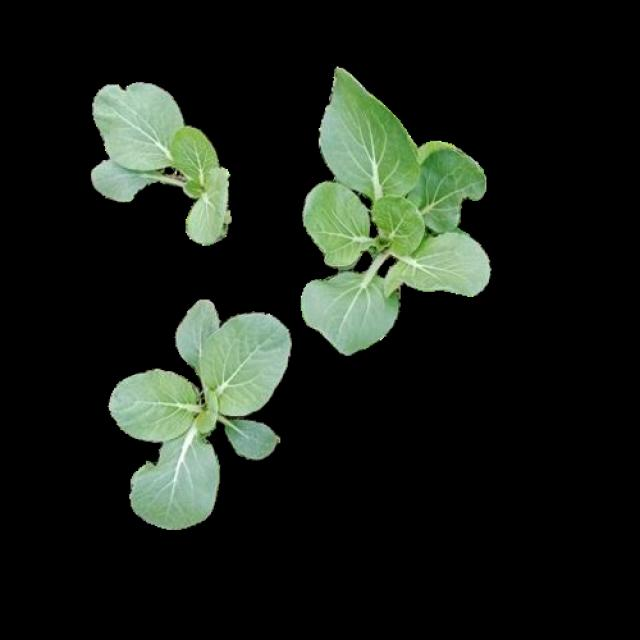healthy: (301, 65, 489, 352), (87, 81, 229, 243)
not-mature: (304, 68, 492, 354), (112, 301, 290, 528), (85, 78, 226, 241)
unhealthy: (129, 440, 219, 526)
